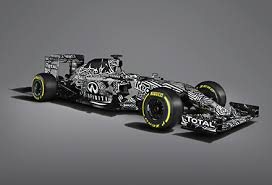f1_car: (7, 48, 266, 151)
